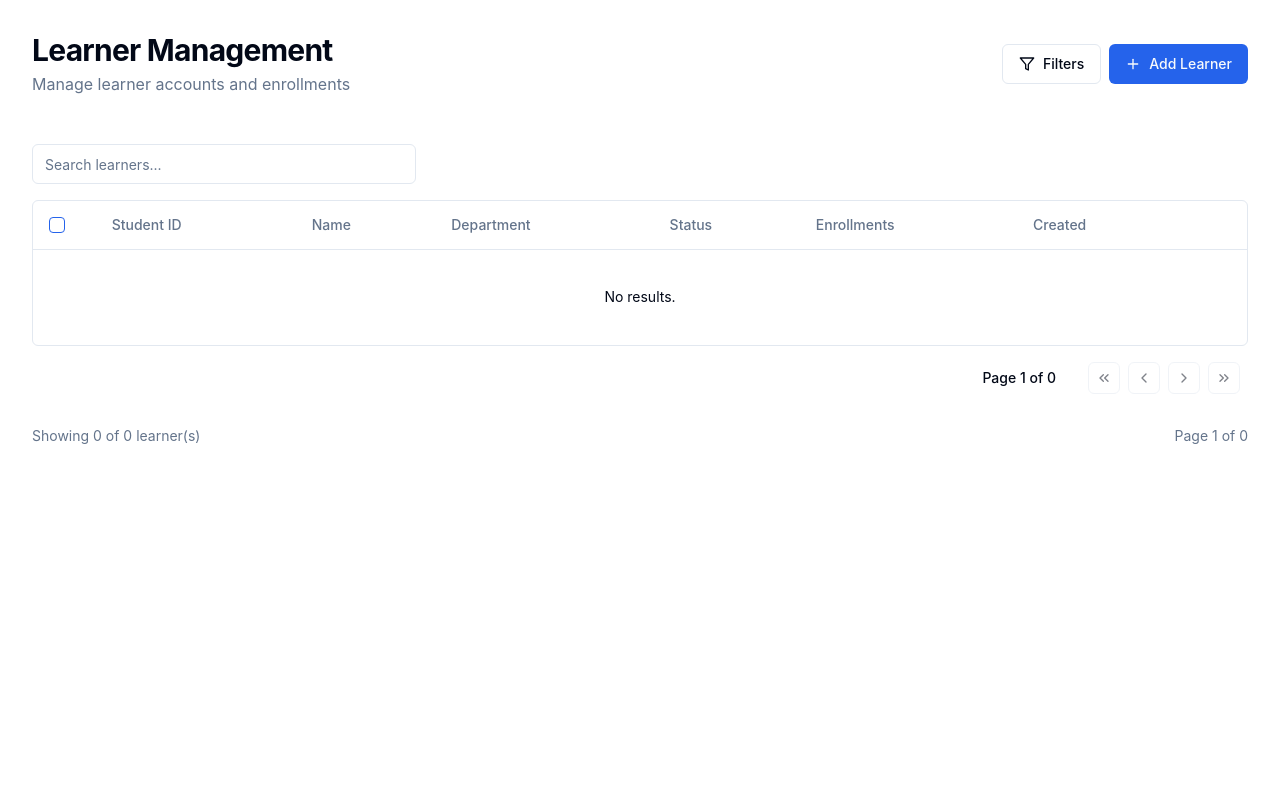
Test: LearnerManagementPage › CRUD Operations › should open create dialog when Add Learner button is clicked
This screenshot has width=1280, height=800.
Click the button "Add Learner": {"x": 1179, "y": 64} [1109, 44, 1248, 84]
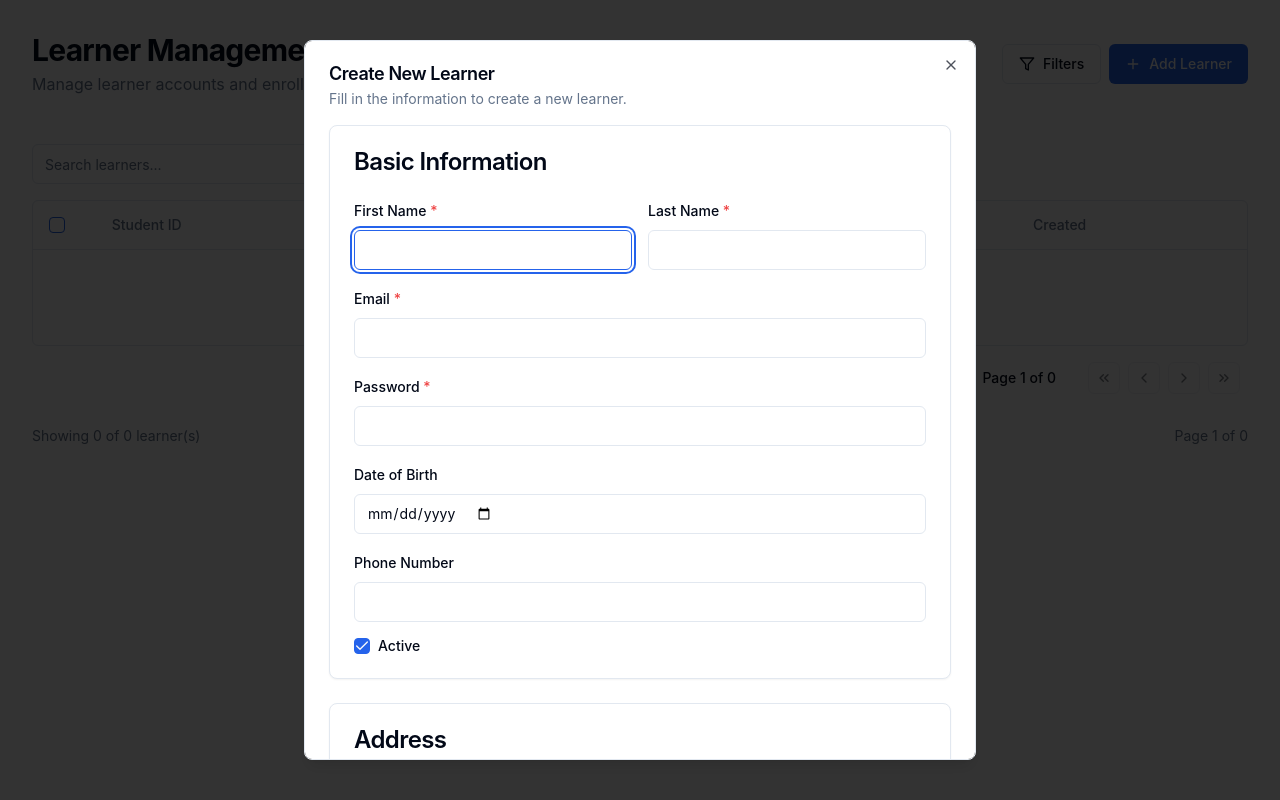
Expected: the heading "Create New Learner" is shown, [329, 63, 495, 84]
